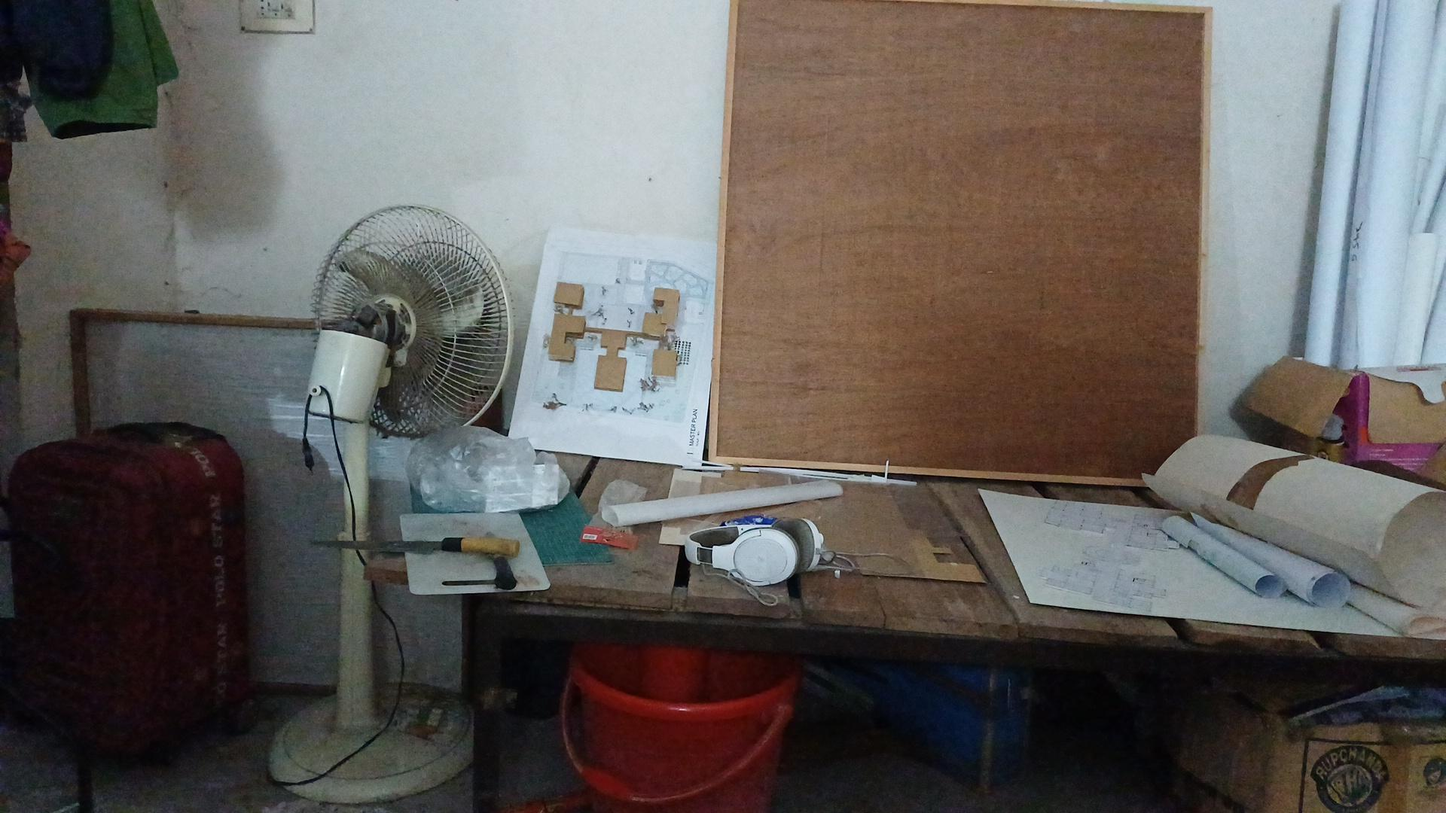Box: (1189, 676, 1446, 813)
Bucket: (563, 635, 800, 803)
Fan: (238, 194, 509, 792)
Knife: (291, 522, 548, 585)
Photo: (537, 207, 710, 475)
